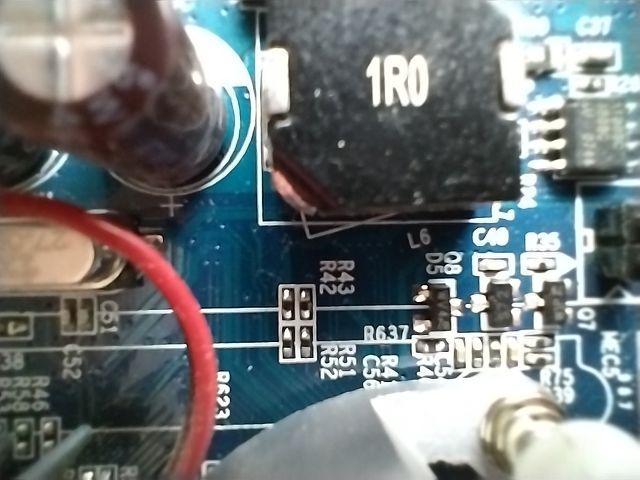resistor: (270, 282, 301, 324), (297, 275, 318, 333), (298, 319, 322, 366), (274, 323, 300, 362), (413, 336, 450, 359)
